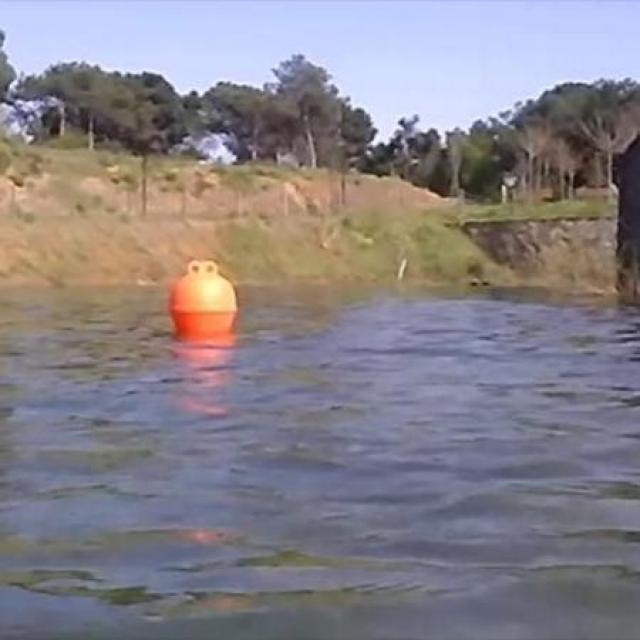buoy: (169, 259, 239, 338)
